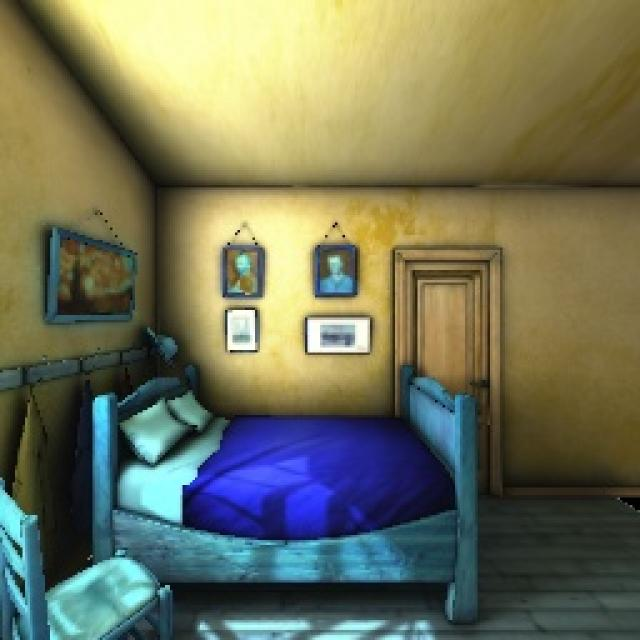bed: (72, 352, 504, 634)
chair: (0, 450, 183, 640)
